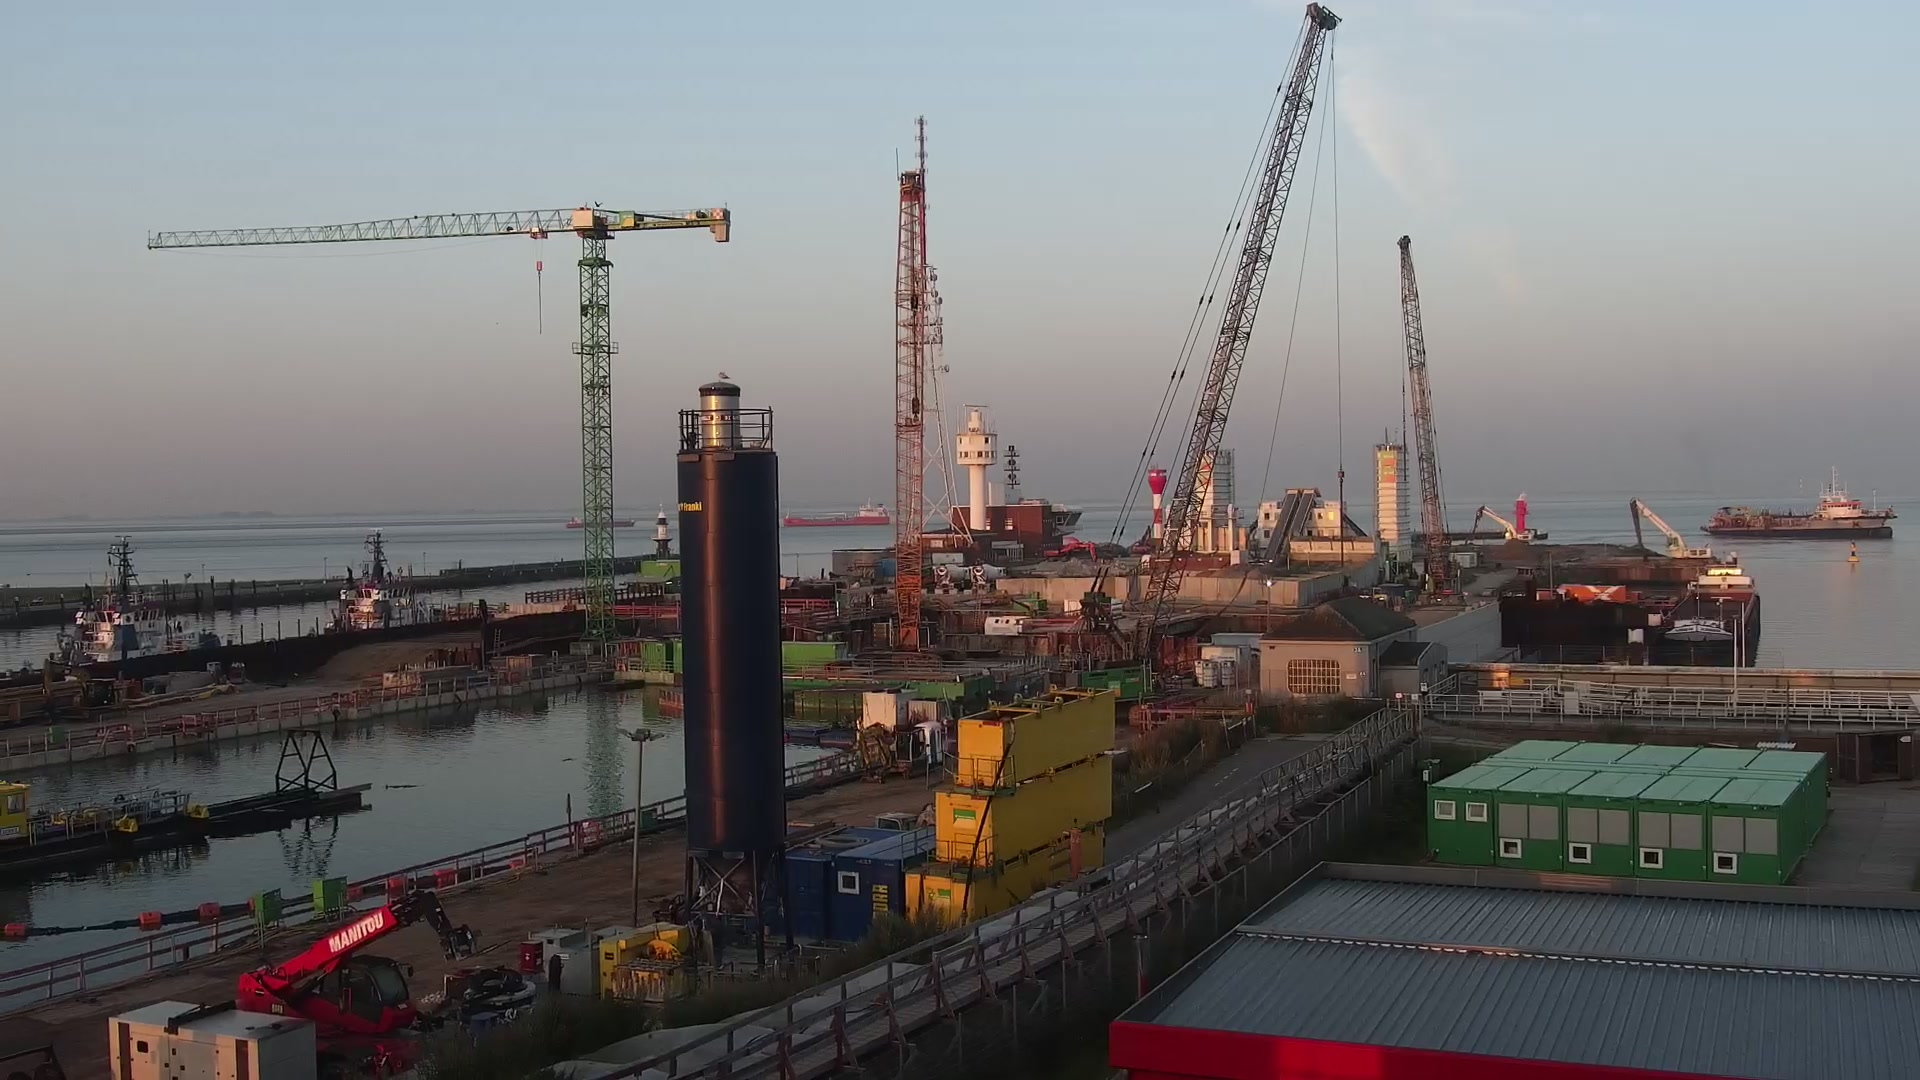sea: (44, 535, 222, 669), (1698, 462, 1898, 538), (320, 527, 452, 632), (1660, 615, 1731, 665), (783, 497, 891, 527), (1688, 551, 1756, 599), (562, 513, 634, 527)
